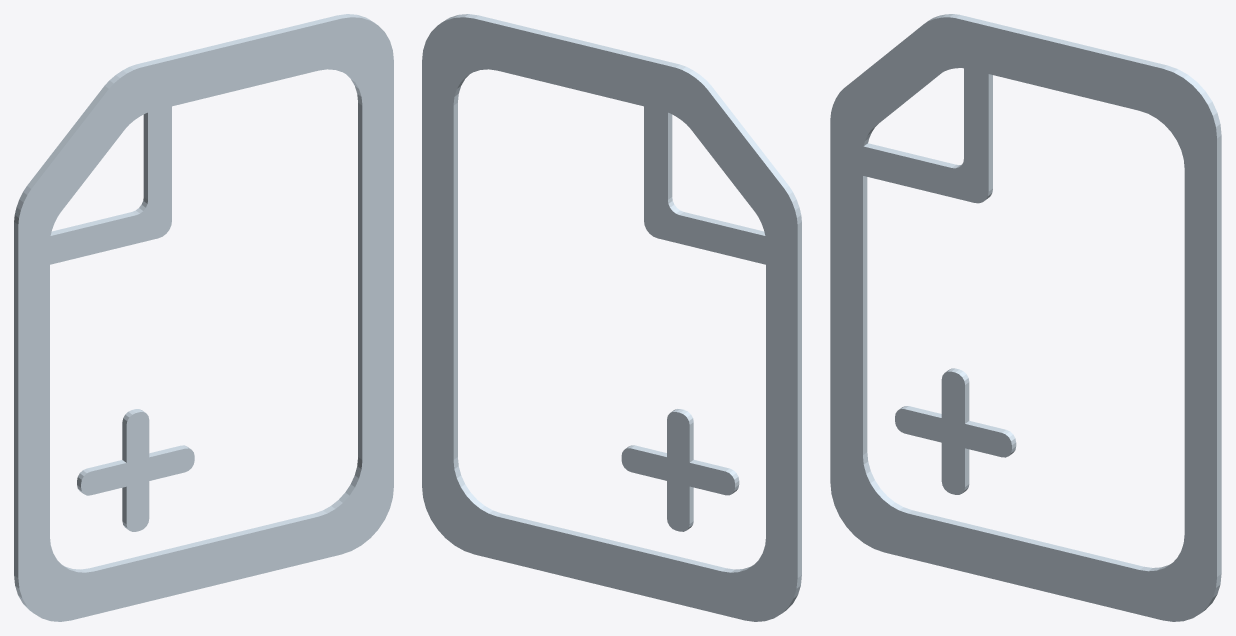
File: File_Add_3D_Icon.fbx
The picture shows the model from 3 angles, left to right: view 1: azimuth 30°, elevation 25°; view 2: azimuth 150°, elevation 25°; view 3: azimuth 330°, elevation 25°; orthographic projection. The views are drawn at different scales.
Visible parts, largest first — view 1: File_Add_3D_Icon; view 2: File_Add_3D_Icon; view 3: File_Add_3D_Icon.
Boxes of the visible parts, x1,y1,x2,y2 form: File_Add_3D_Icon: (14,14,393,621); File_Add_3D_Icon: (422,14,801,621); File_Add_3D_Icon: (830,14,1221,621).
Size of the model in its own units: 99 by 135 by 2.
